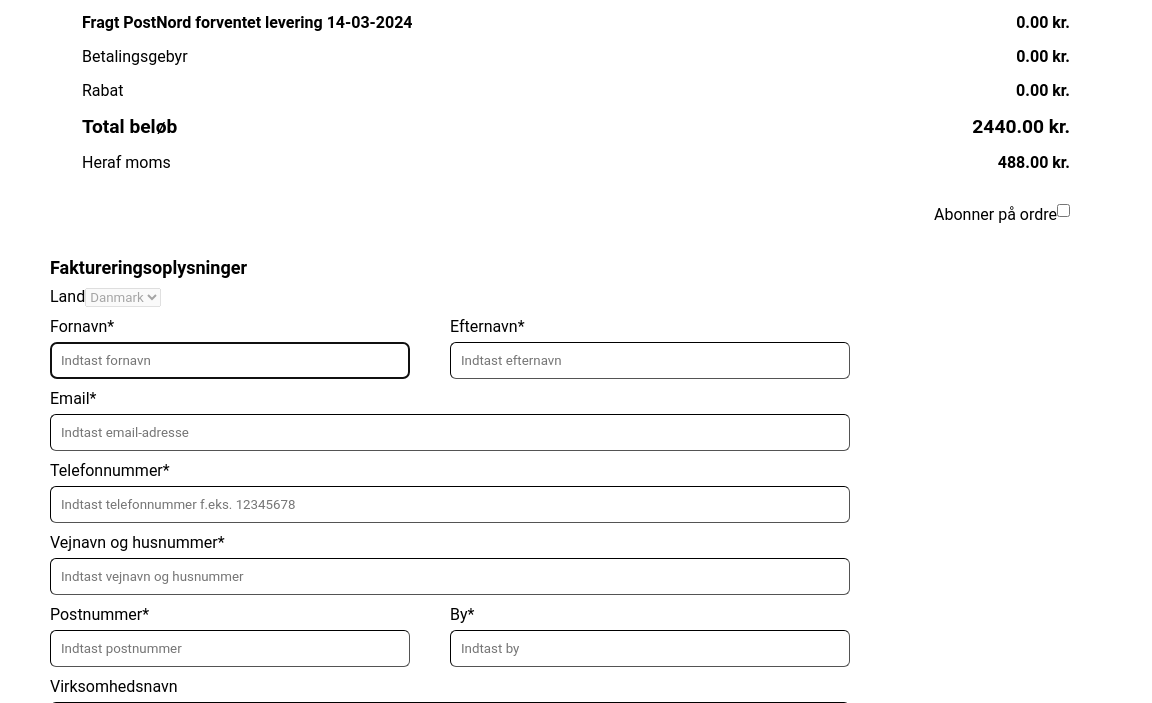
Test: Testing Contactform › field Email shouldnt accept the following emails and display "ugyldig email"
(page scrolled)
Type "#@%^%#$@#$@#.com" into the field labelled "Email*".
click(450, 432); type("#@%^%#$@#$@#.com")  # box [50,414,850,451]
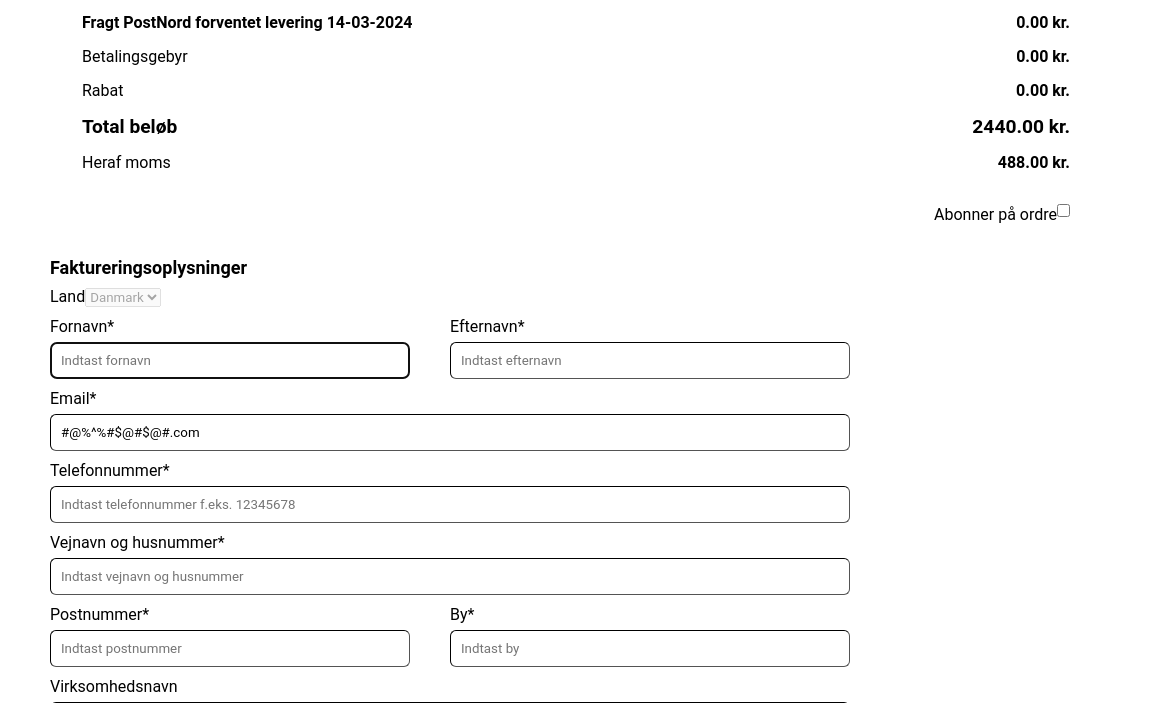
Leave the field labelled "Email*", box [50,414,850,451]
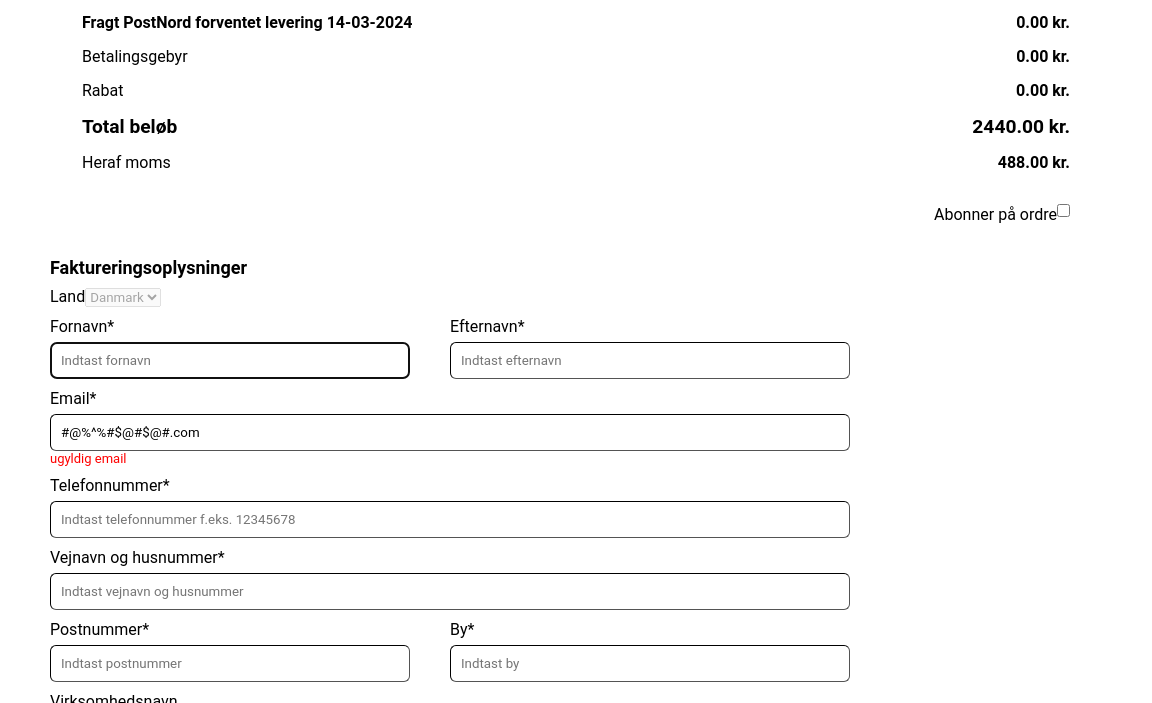
Check: the text "ugyldig email" is shown, box [50,451,126,466]
